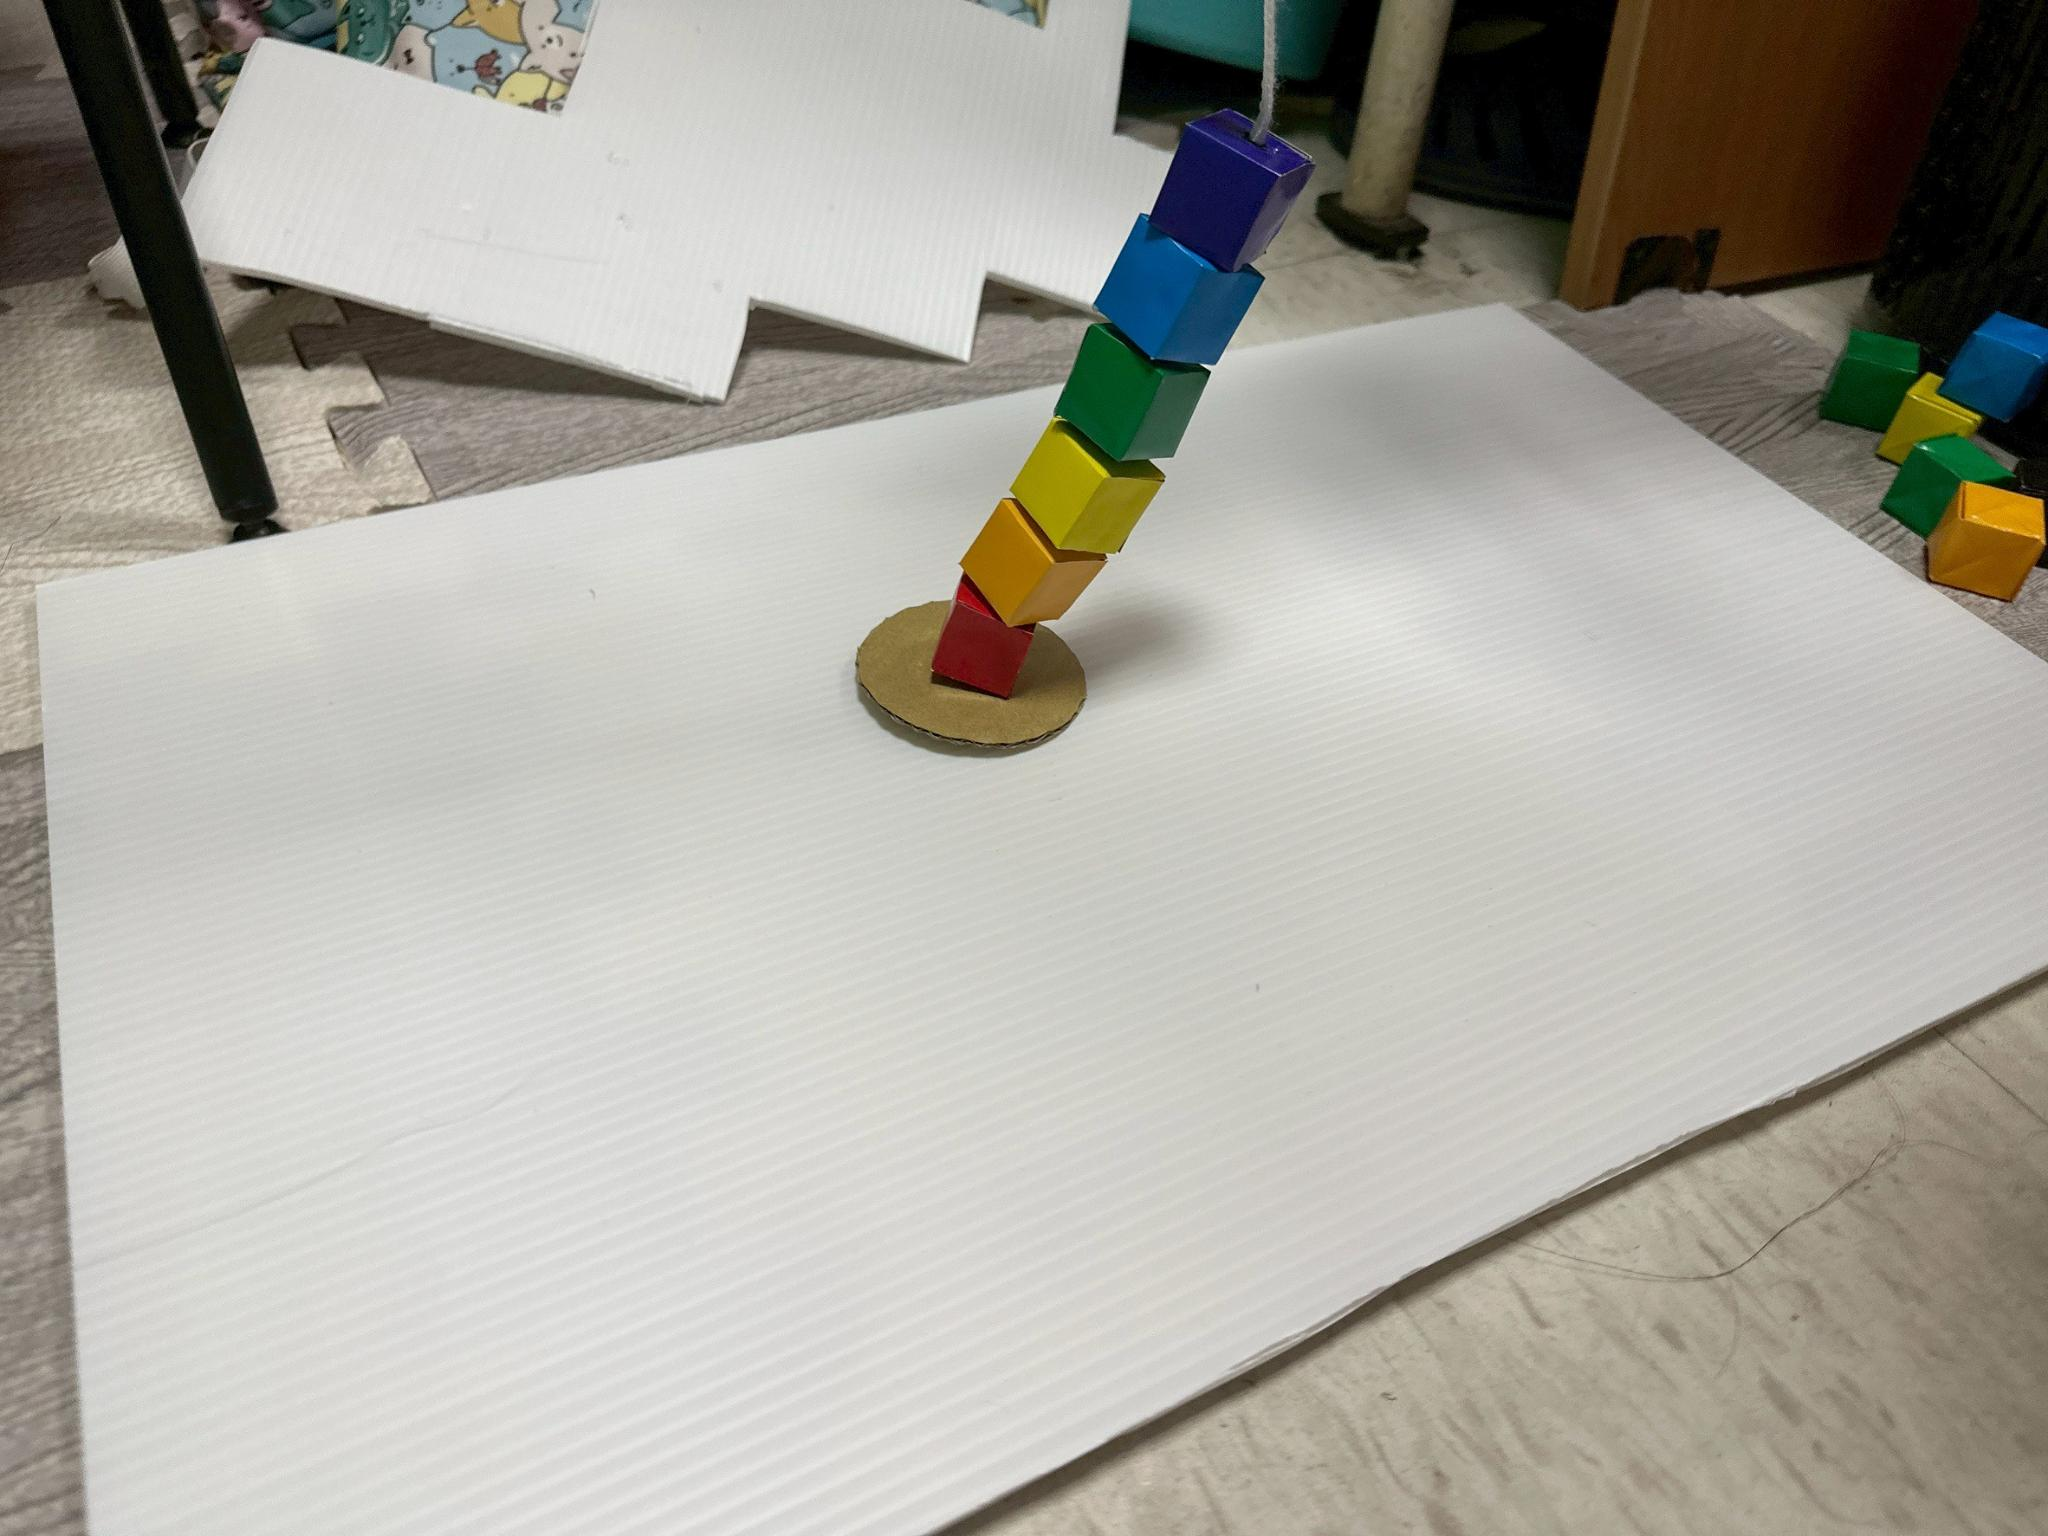base: (856, 600, 1087, 745)
cube: (1150, 110, 1313, 273), (1097, 215, 1263, 366), (1011, 416, 1166, 555), (1055, 324, 1208, 460), (961, 499, 1106, 626), (1929, 482, 2048, 600), (1882, 434, 2013, 539), (932, 576, 1032, 699), (1942, 313, 2048, 421), (1821, 329, 1922, 432), (1877, 373, 1983, 465)
